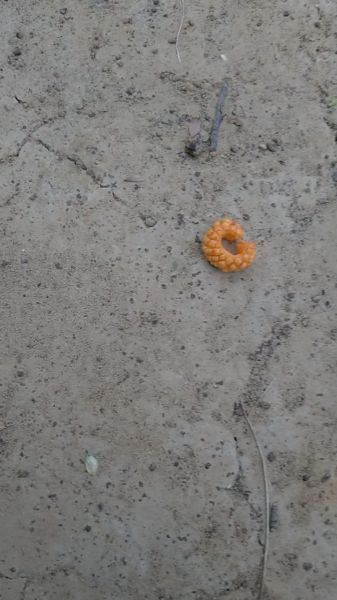eggs: (194, 207, 260, 281)
